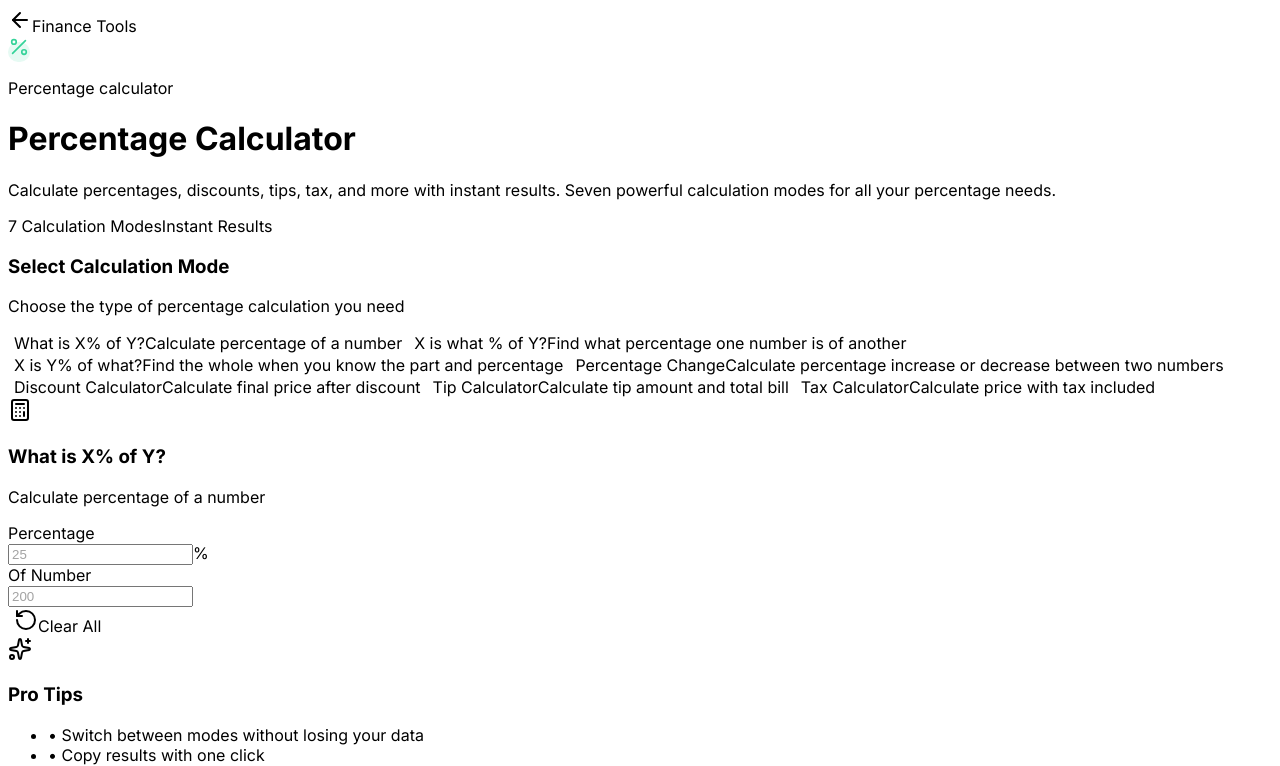
Percentage Calculator Page › Percent Of Calculation › displays formula for percent of calculation
This screenshot has width=1280, height=766.
Type "10" into the field labelled "Percentage" at {"x": 100, "y": 554}, box [8,544,193,565]
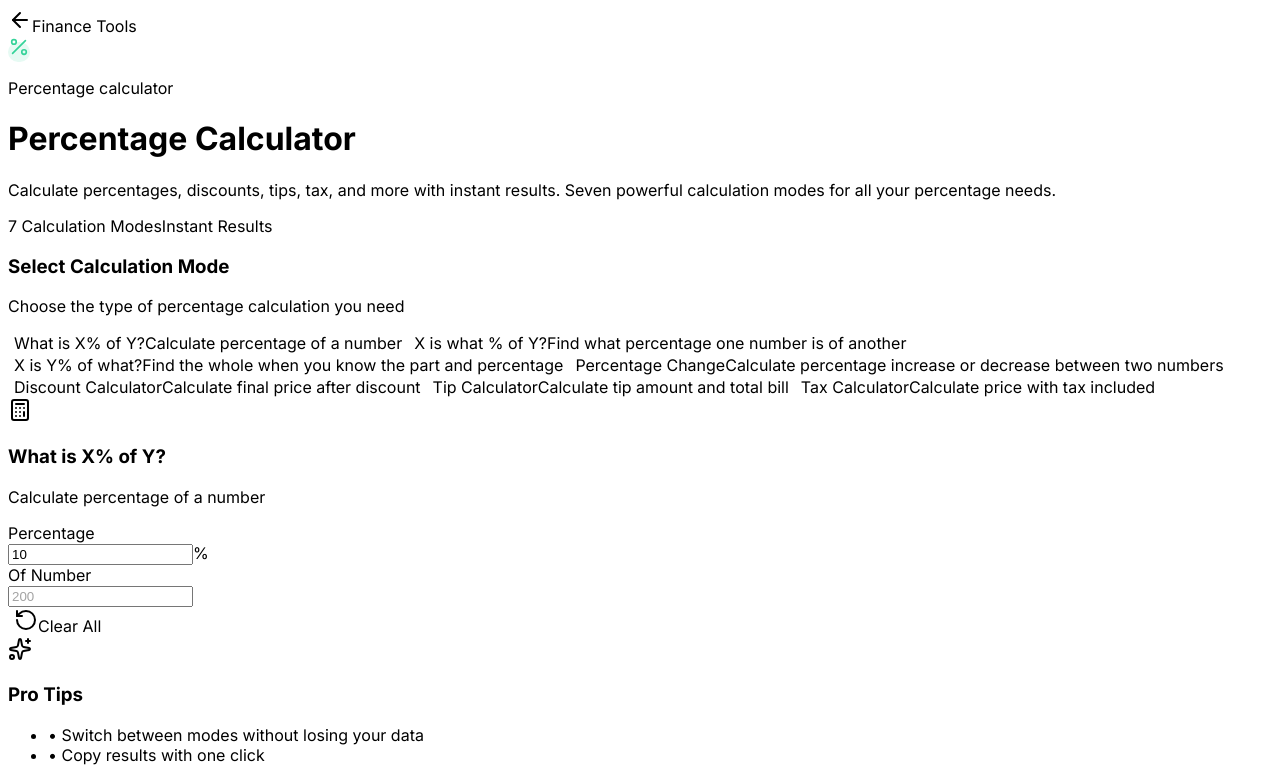
Type "100" into the field labelled "Of Number" at {"x": 100, "y": 596}, box [8,586,193,607]
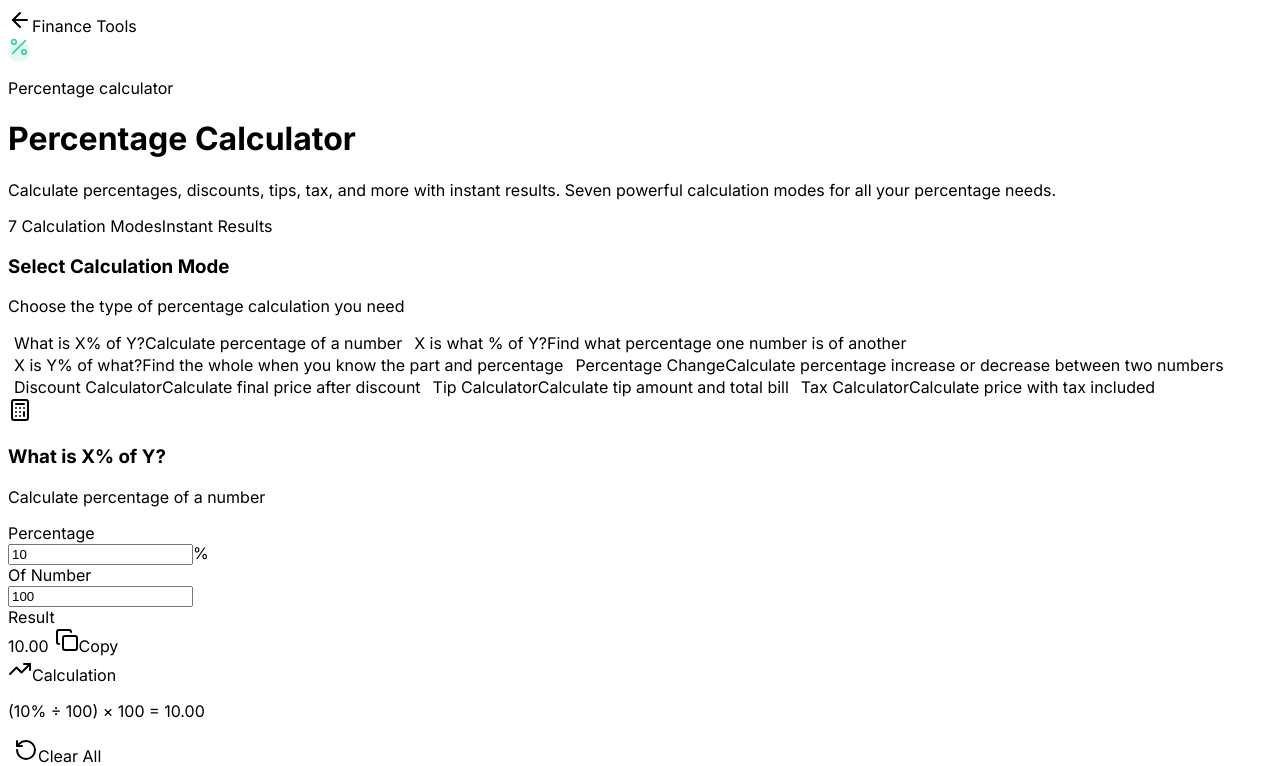
Check: the text "(10% ÷ 100) × 100 = 10.00" is shown, box [8,701,205,721]
